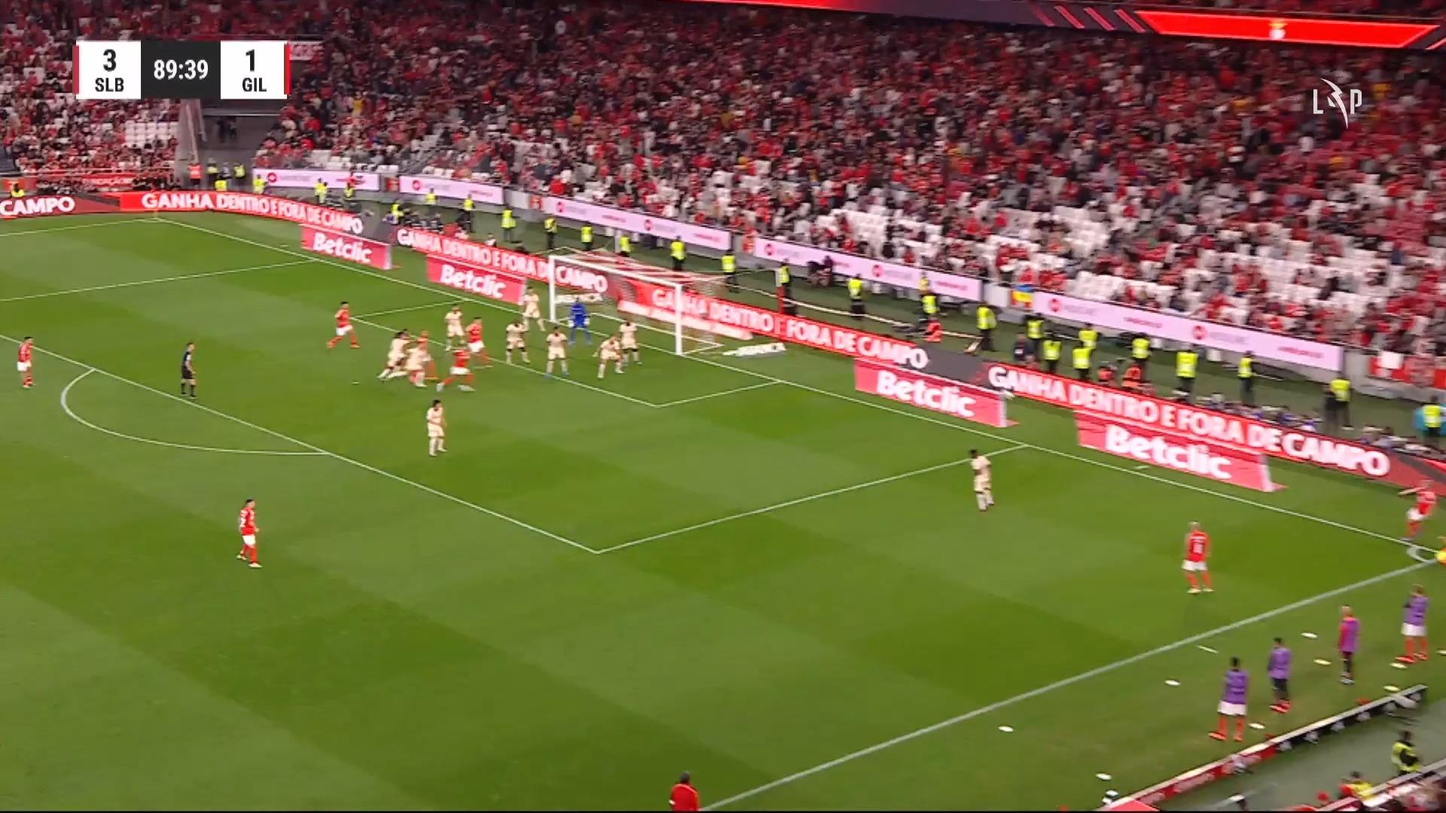goalkeeper: (567, 294, 592, 346)
player: (1398, 478, 1437, 560), (1180, 520, 1213, 594), (435, 341, 475, 392), (235, 498, 263, 568), (377, 327, 411, 382), (967, 447, 995, 512), (325, 300, 360, 349), (403, 333, 432, 388), (463, 315, 493, 368), (593, 334, 625, 379), (544, 324, 569, 376), (503, 317, 530, 365), (668, 771, 700, 811), (425, 398, 447, 456), (518, 285, 545, 332), (617, 318, 641, 364), (443, 303, 465, 352), (16, 336, 35, 388)
referee: (179, 342, 198, 397)
